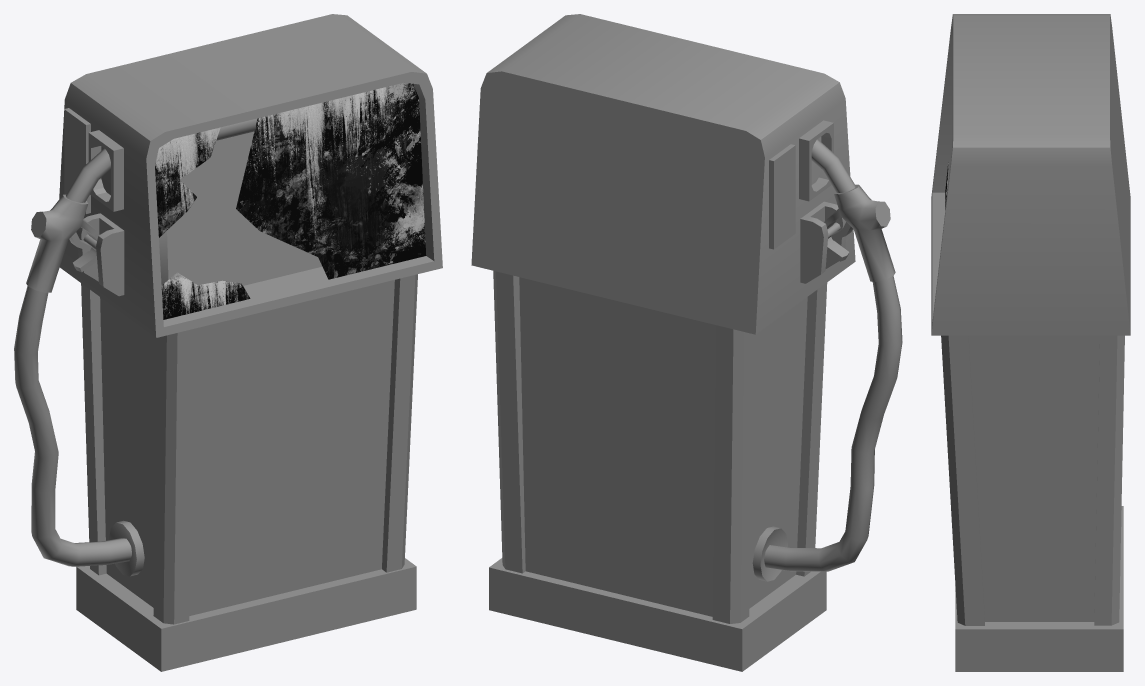
Rendered from Outside_Fuel_Pump.FBX.
The picture shows the model from 3 angles, left to right: view 1: azimuth 30°, elevation 25°; view 2: azimuth 150°, elevation 25°; view 3: azimuth 270°, elevation 25°; orthographic projection.
Visible parts, largest first — view 1: Fuel_Pump, Fuel_Pump_Glass; view 2: Fuel_Pump; view 3: Fuel_Pump.
Boxes of the visible parts, box(x1,y1,x2,y2) form: Fuel_Pump: box(14, 14, 442, 671); Fuel_Pump_Glass: box(155, 82, 426, 319); Fuel_Pump: box(471, 14, 902, 671); Fuel_Pump: box(931, 14, 1130, 671).
Bounding box in the file's own units: 131 × 178 × 60.07.
Materials: 2 (1 with a texture image).
